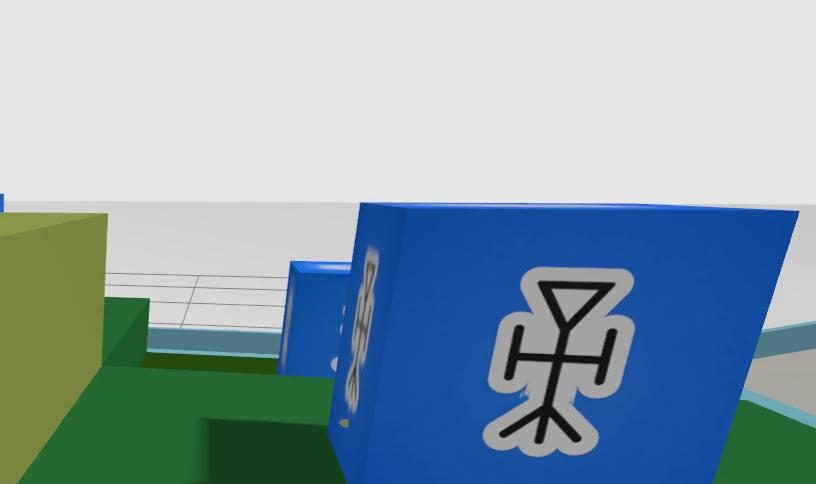KFS_REAL: (329, 203, 797, 484), (483, 267, 634, 457), (279, 261, 350, 375), (345, 248, 378, 413)
